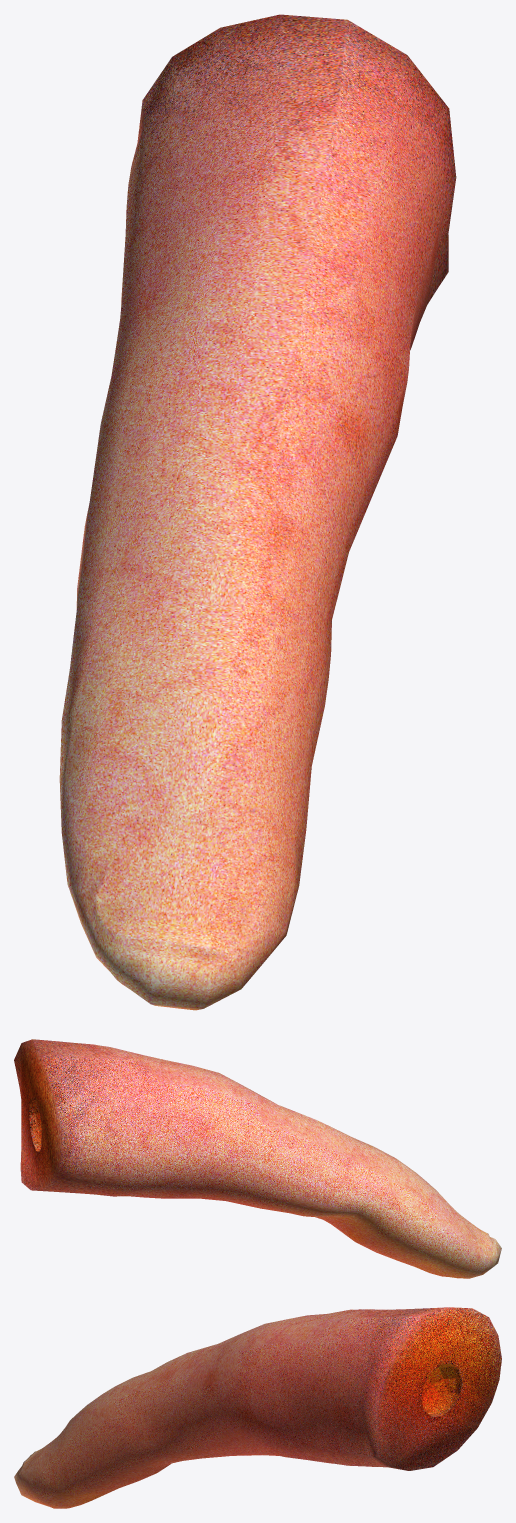
The picture shows the model from 3 angles, top to bottom: view 1: azimuth 30°, elevation 25°; view 2: azimuth 150°, elevation 25°; view 3: azimuth 270°, elevation 25°; orthographic projection. The views are drawn at different scales.
Parts seen in each view (by area): view 1: hand_mesh.005; view 2: hand_mesh.005; view 3: hand_mesh.005.
Part boxes in pixels (x1,y1,x2,y2): hand_mesh.005: (59,14,456,1010); hand_mesh.005: (14,1039,501,1278); hand_mesh.005: (14,1307,501,1508).
Size of the model in its own units: 0.1654 by 0.1456 by 0.2028.
1 material, 1 textured.
